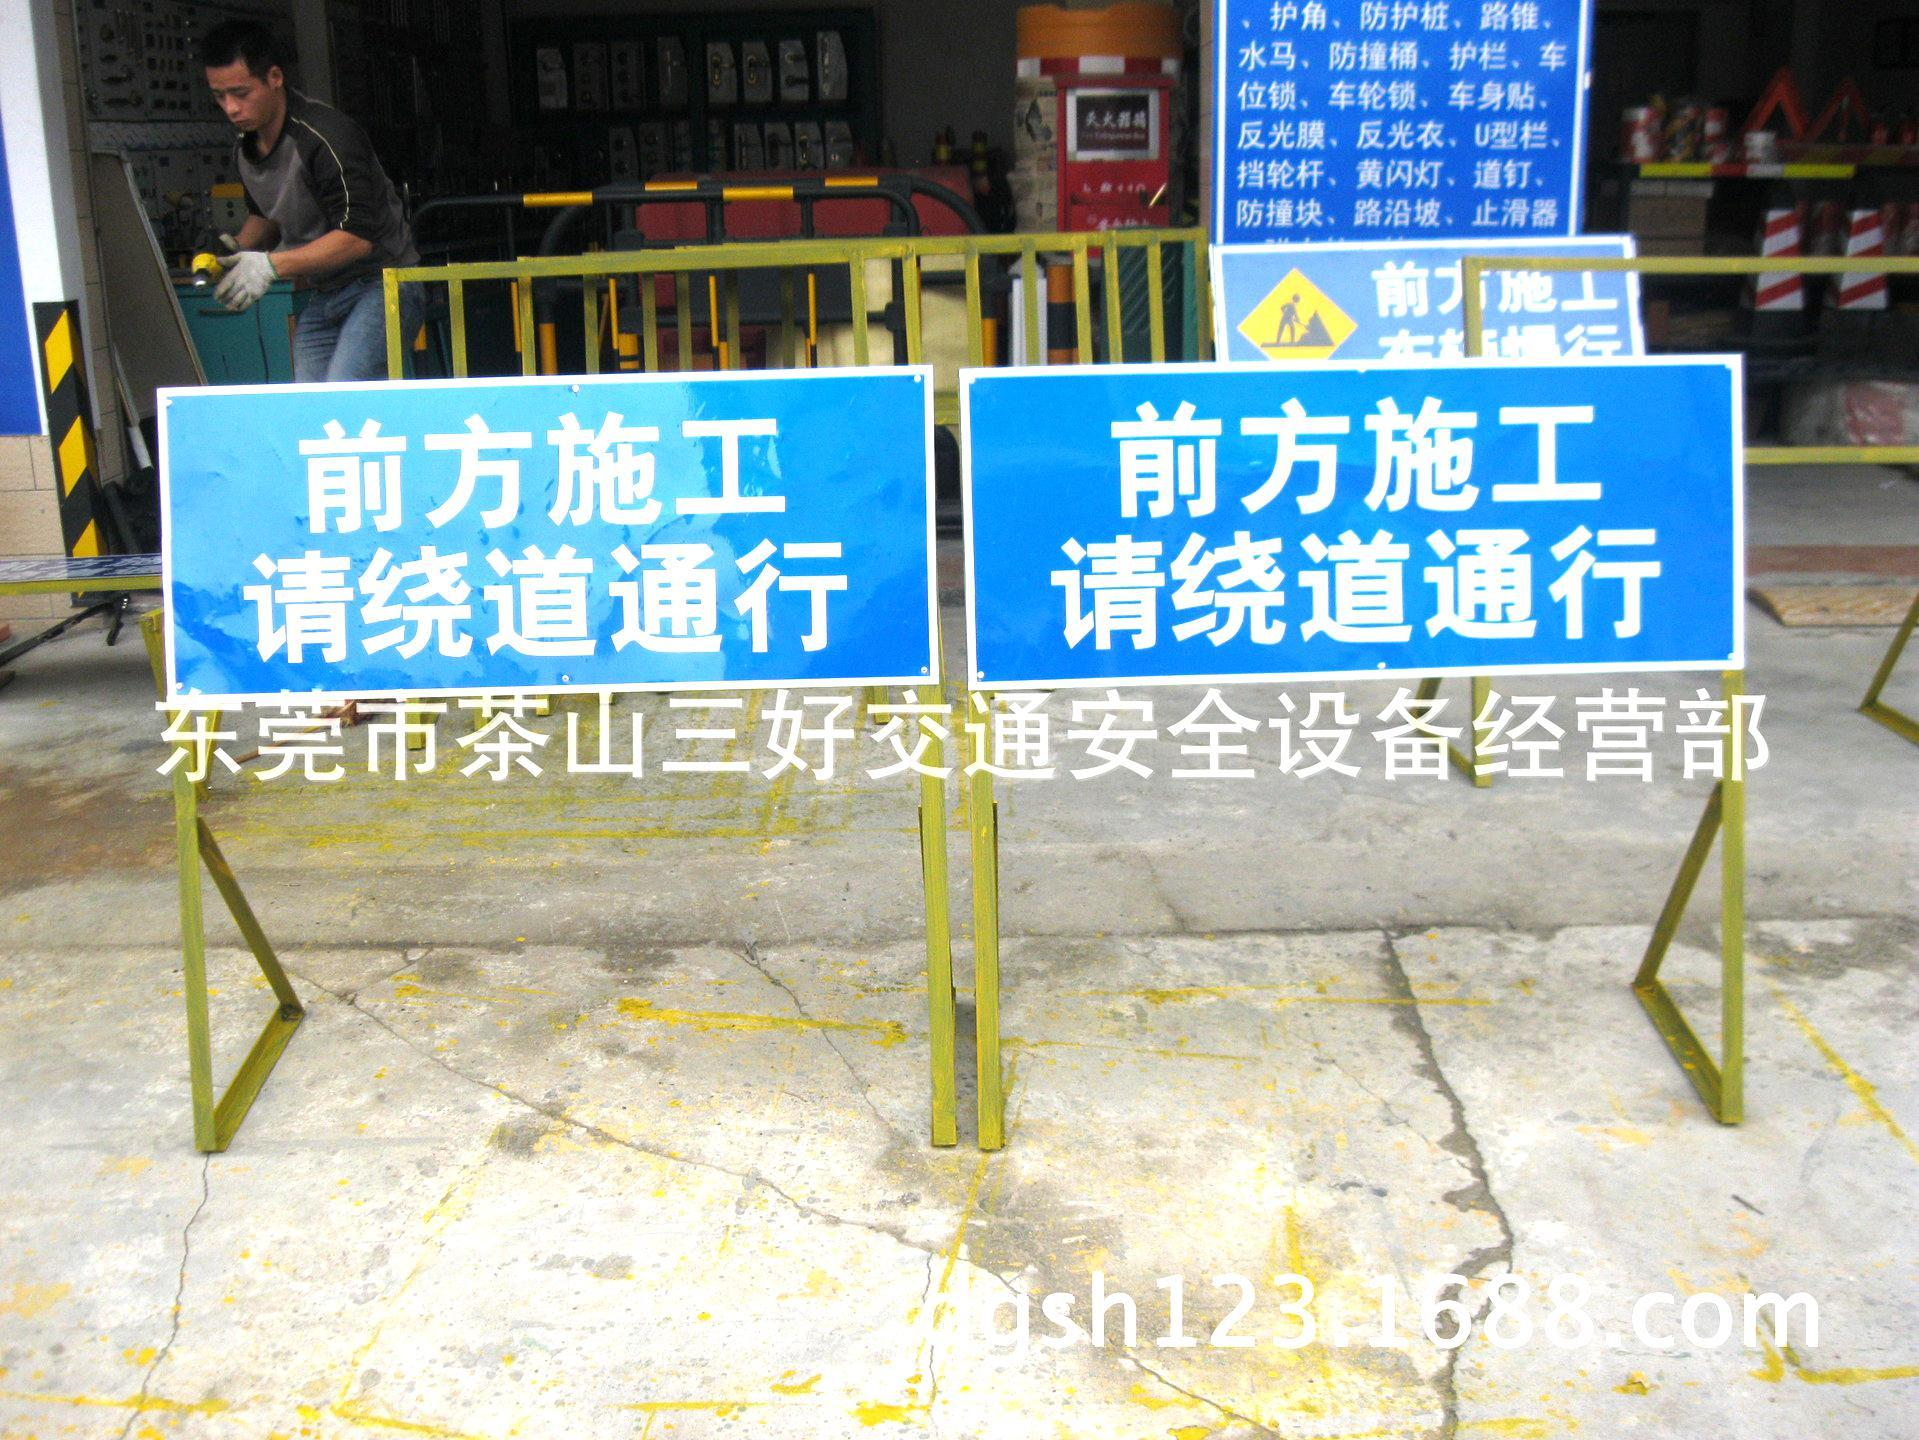sign: (160, 386, 935, 687), (975, 375, 1750, 675)
